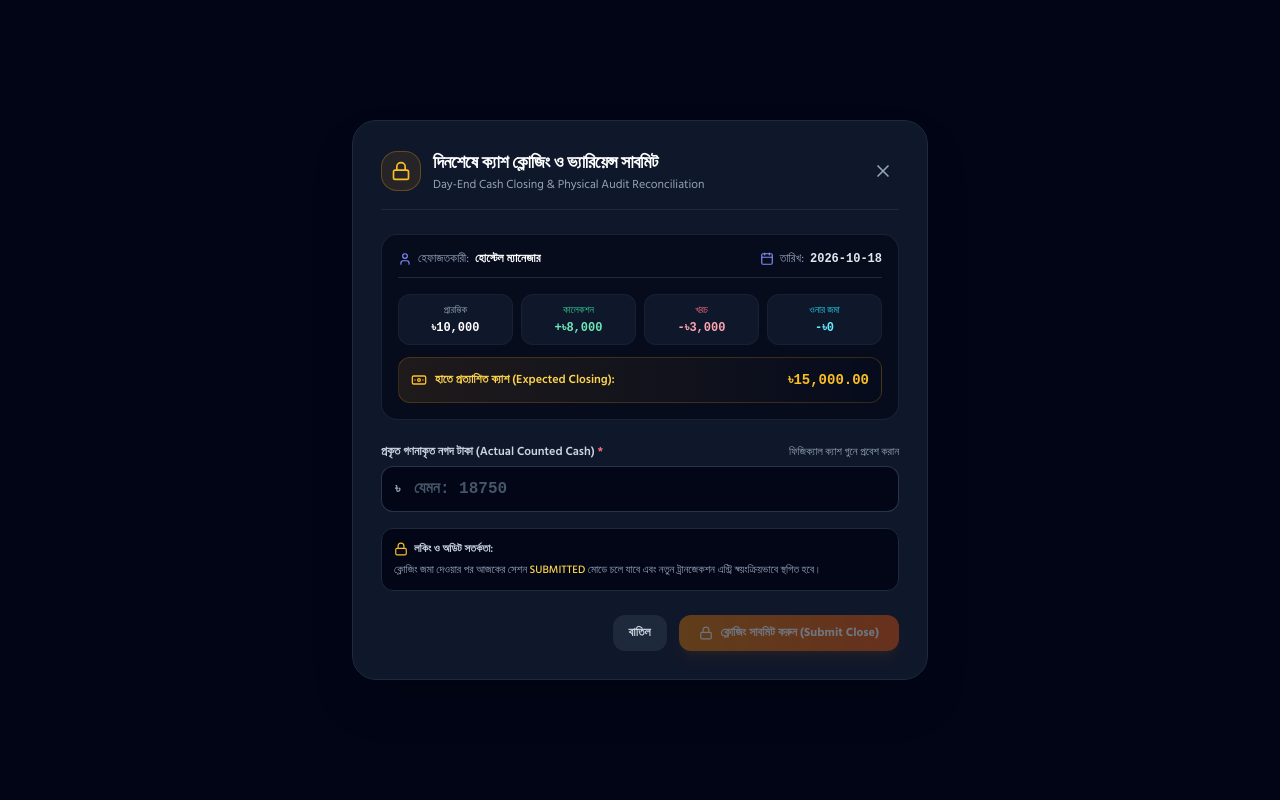
Scenario: DailyClosingModal.test.tsx - Variance Enforcement & Mandatory Explanation › enables submit button immediately when counted cash matches expected (variance == 0)
Type "15000" into the number field at (640,489), box [381,466,899,512]
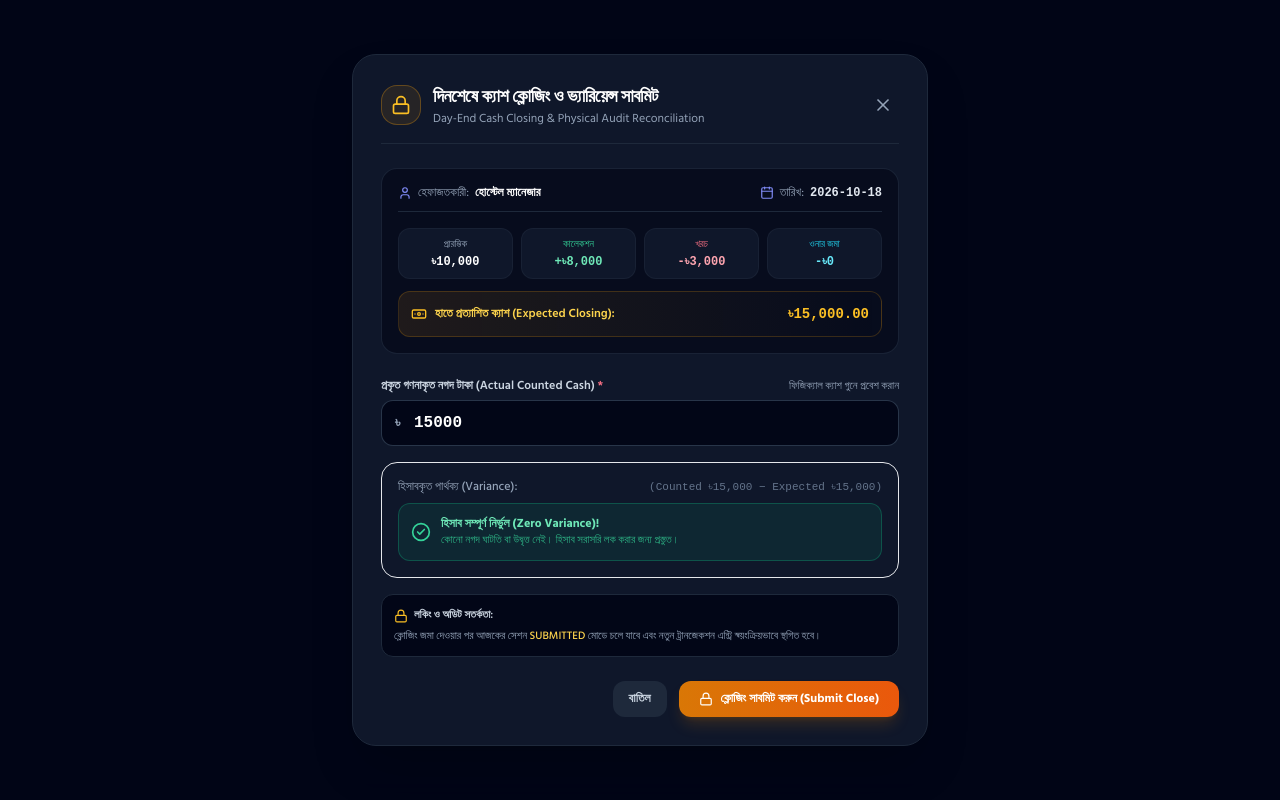
Now the button "ক্লোজিং সাবমিট করুন (Submit Close)" is enabled, box [678,681,899,717]
